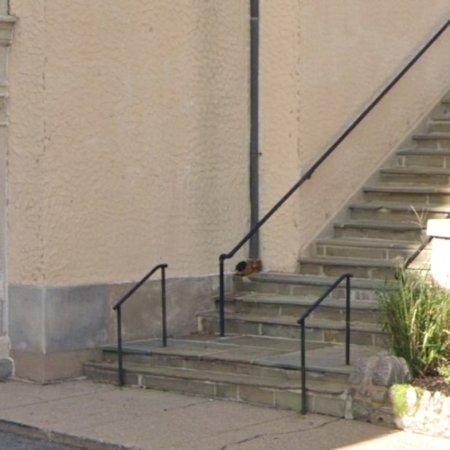stairs: (126, 95, 450, 410), (307, 287, 353, 418)
